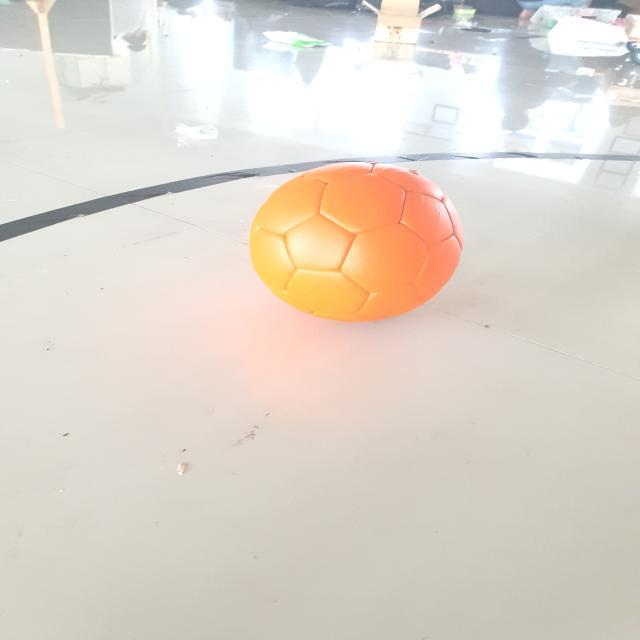bola: (223, 132, 483, 348)
